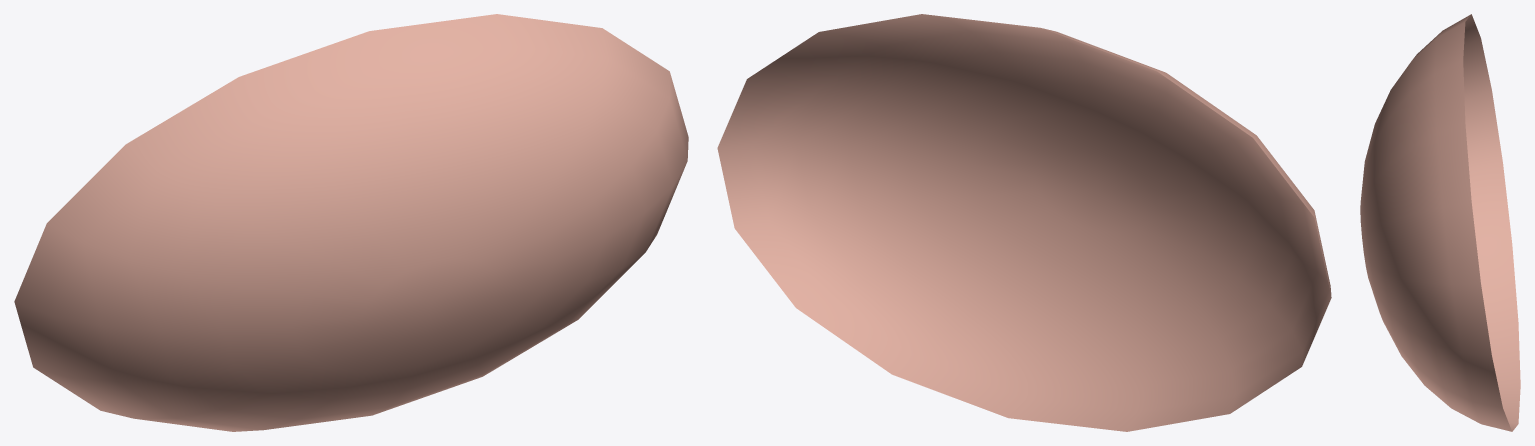
The picture shows the model from 3 angles, left to right: view 1: azimuth 30°, elevation 25°; view 2: azimuth 150°, elevation 25°; view 3: azimuth 270°, elevation 25°; orthographic projection. The views are drawn at different scales.
Visible parts, largest first — view 1: pSphere1; view 2: pSphere1; view 3: pSphere1.
Boxes of the visible parts, box(x1,y1,x2,y2) form: pSphere1: box(14, 14, 688, 431); pSphere1: box(717, 14, 1331, 431); pSphere1: box(1360, 14, 1520, 431).
Bounding box in the file's own units: 0.0814 × 0.0465 × 0.0208.
